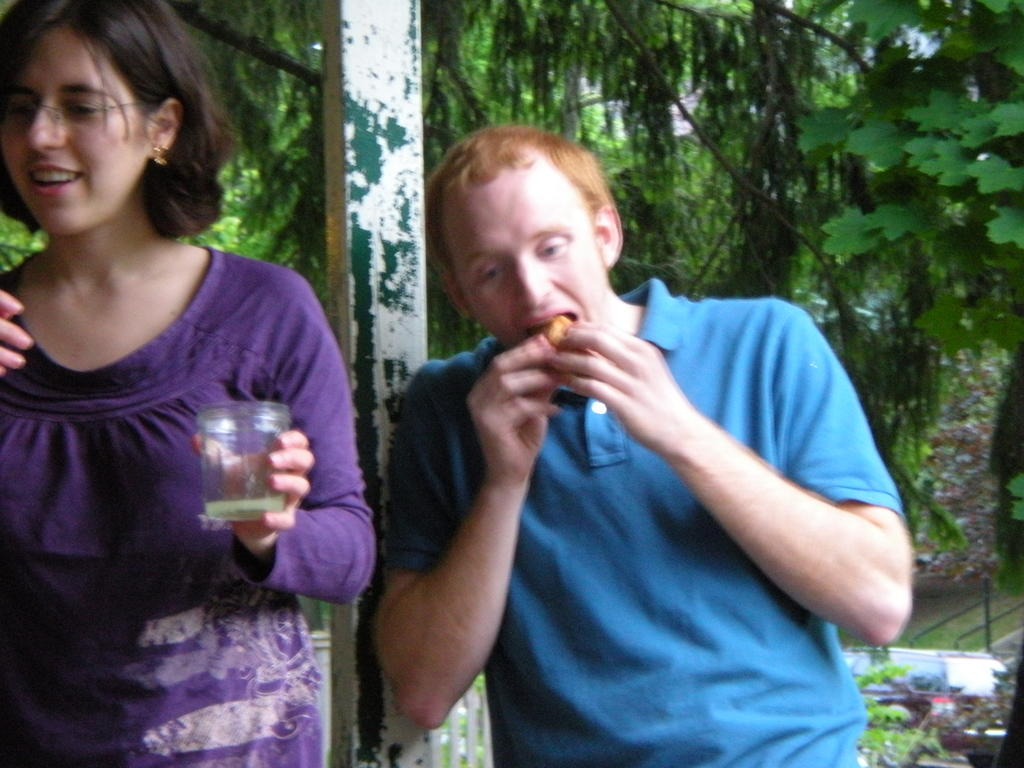Tree: (681, 0, 1023, 590), (387, 0, 798, 378), (0, 0, 323, 315), (837, 627, 1023, 766)
